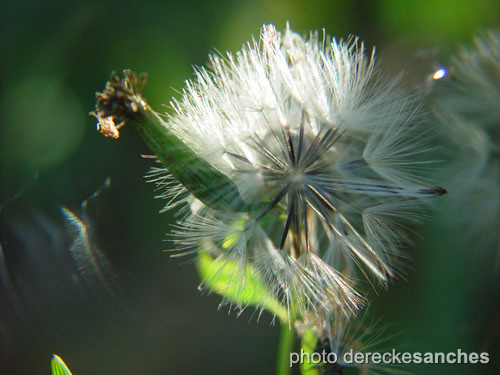dandelion: (111, 15, 469, 332)
